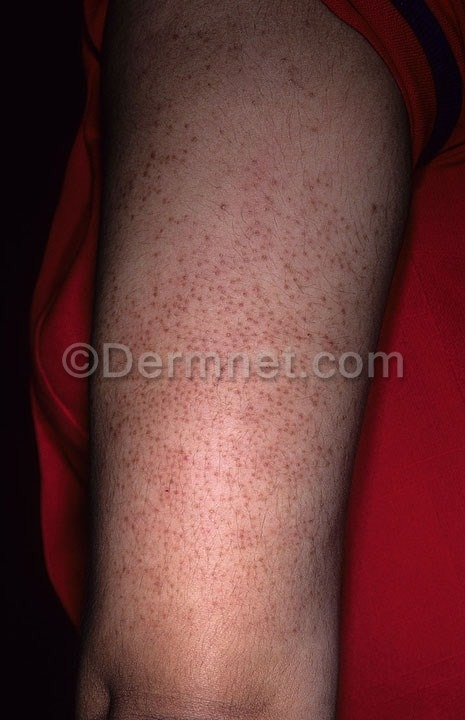Eczema: (98, 6, 391, 720)
